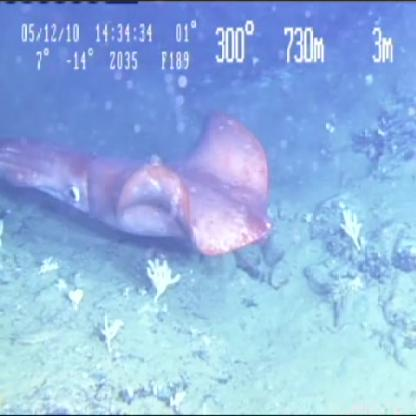Bio: (1, 106, 278, 263), (143, 257, 183, 305), (98, 312, 126, 356)
